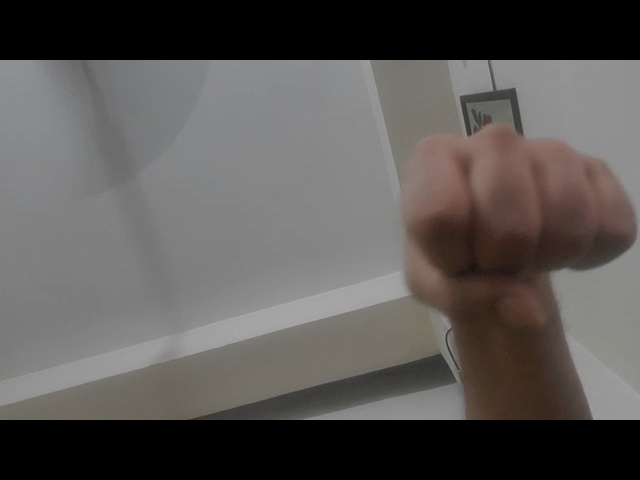Yes: (340, 112, 639, 341)
